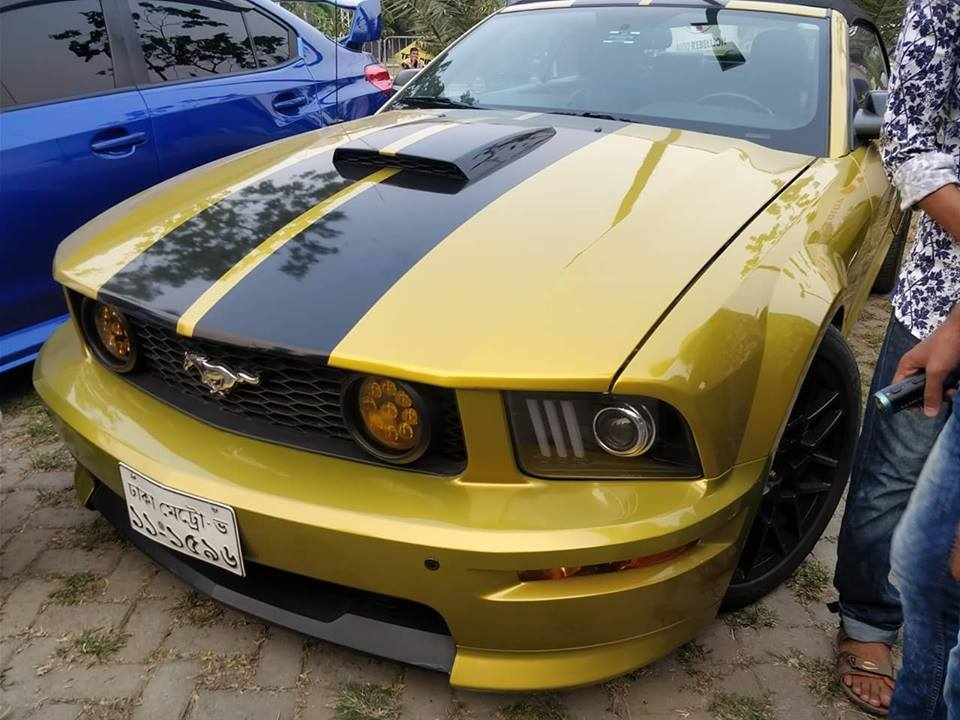registration_plate: (117, 459, 247, 580)
